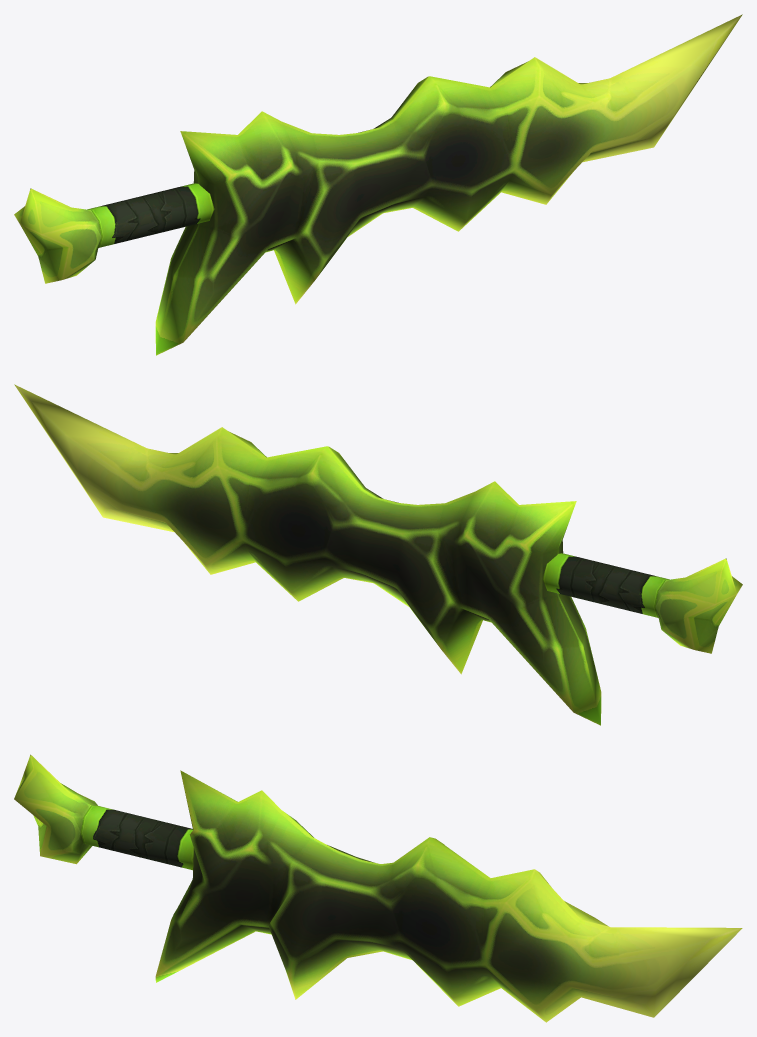
File: item_weaswomgm2501-et04.glb
The picture shows the model from 3 angles, top to bottom: view 1: azimuth 30°, elevation 25°; view 2: azimuth 150°, elevation 25°; view 3: azimuth 330°, elevation 25°; orthographic projection.
Visible parts, largest first — view 1: FlyffMesh; view 2: FlyffMesh; view 3: FlyffMesh.
Part boxes in pixels (x1,y1,x2,y2): FlyffMesh: [14, 14, 742, 355]; FlyffMesh: [14, 384, 742, 725]; FlyffMesh: [14, 754, 742, 1022].
Size of the model in its own units: 1.2 by 0.347 by 0.1155.
1 material, 1 textured.
